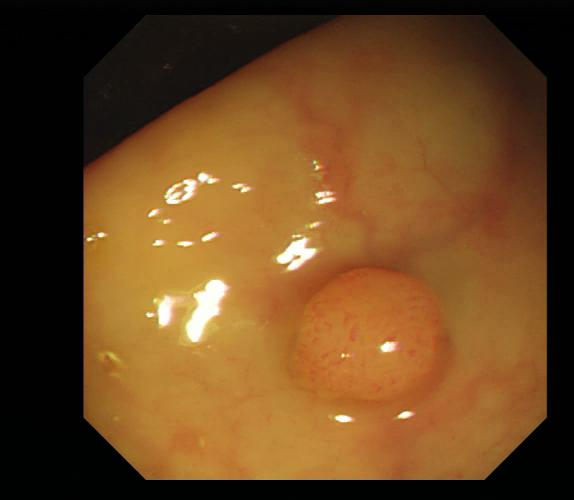polyp: (289, 266, 450, 408)
